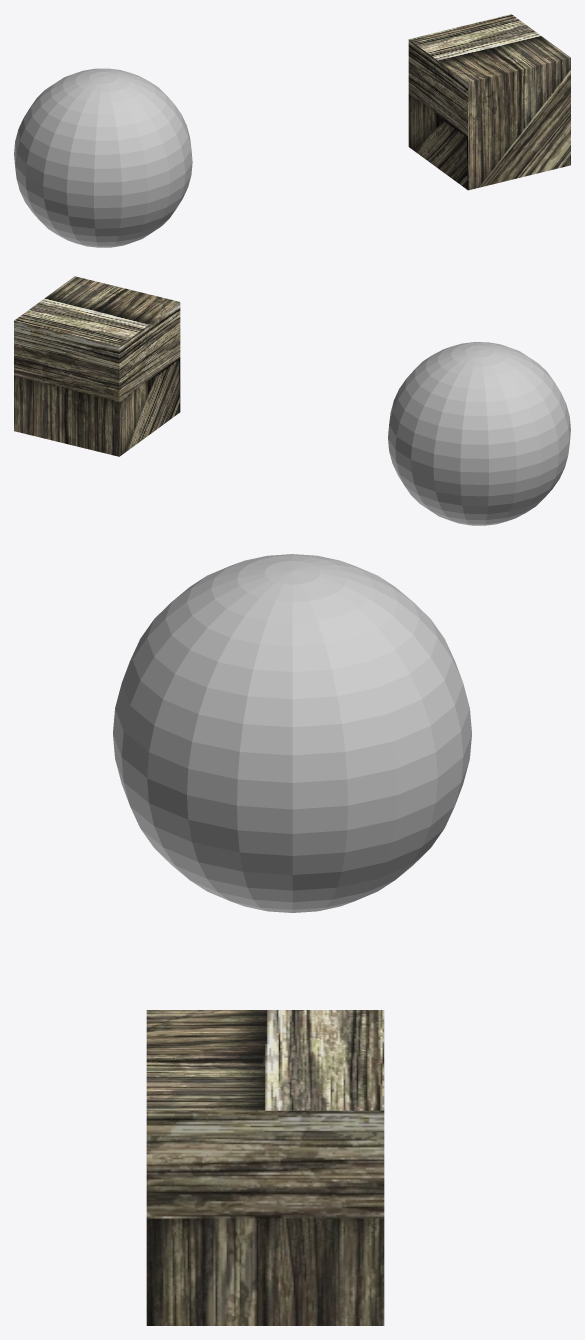
Rendered from crate_and_world2.dae.
3 renders of one model, top to bottom at view 1: azimuth 30°, elevation 25°; view 2: azimuth 150°, elevation 25°; view 3: azimuth 270°, elevation 25°, orthographic. The views are drawn at different scales.
Parts seen in each view (by area): view 1: pSphere1, pCube1; view 2: pSphere1, pCube1; view 3: pSphere1, pCube1.
Part boxes in pixels (x1,y1,x2,y2): pSphere1: (14,68,192,247); pCube1: (408,14,570,190); pSphere1: (388,342,570,525); pCube1: (14,276,180,456); pSphere1: (113,554,471,912); pCube1: (146,1010,384,1325).
Bounding box in the file's own units: 10.01 × 3.14 × 3.06.
